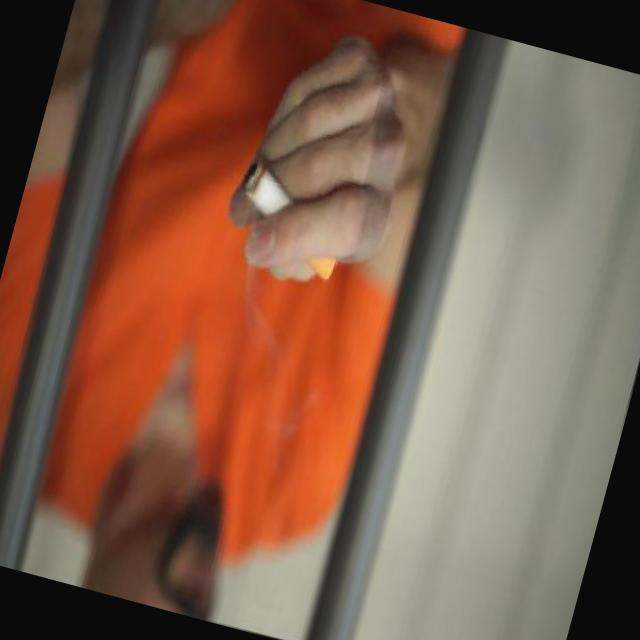cigarette: (222, 153, 360, 288)
